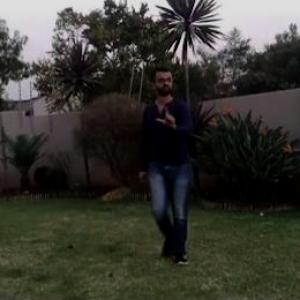land_hand: (158, 94, 189, 132)
